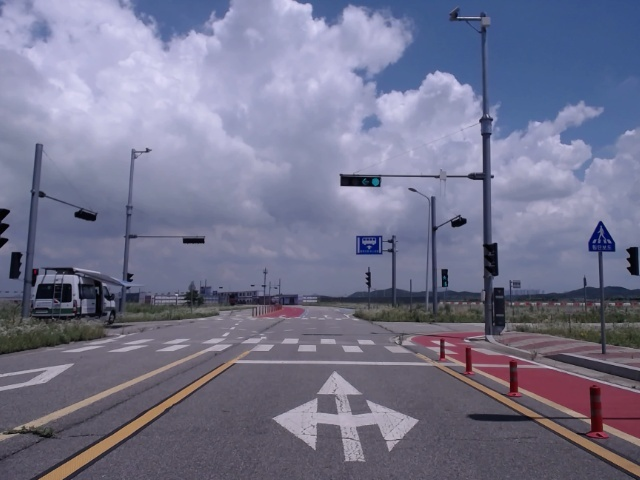all_green_4: (342, 175, 379, 187)
